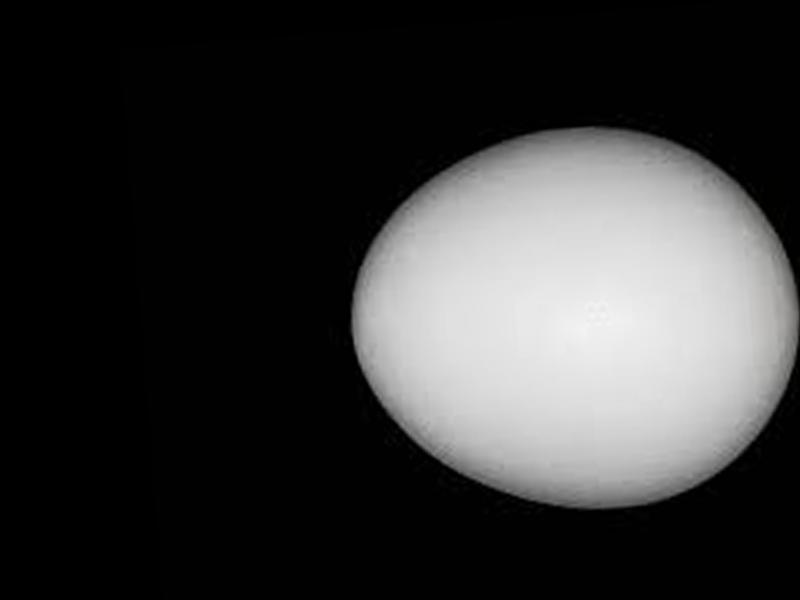Eggs: (341, 111, 800, 526)
